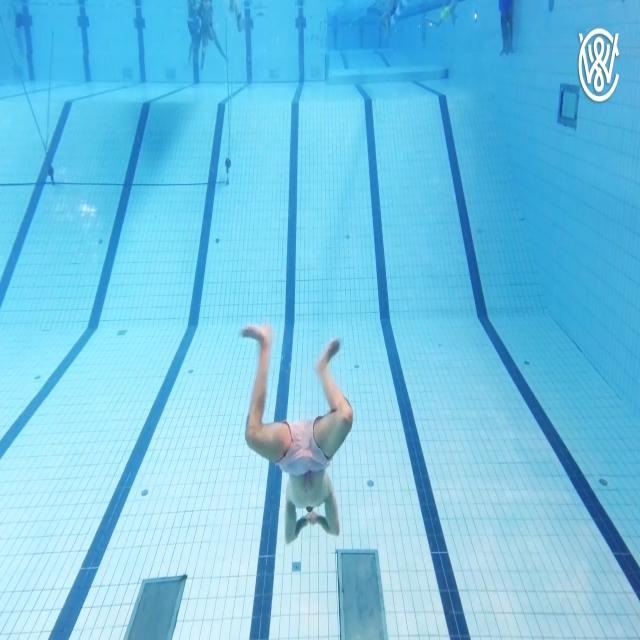Swimming: (240, 322, 356, 546)
